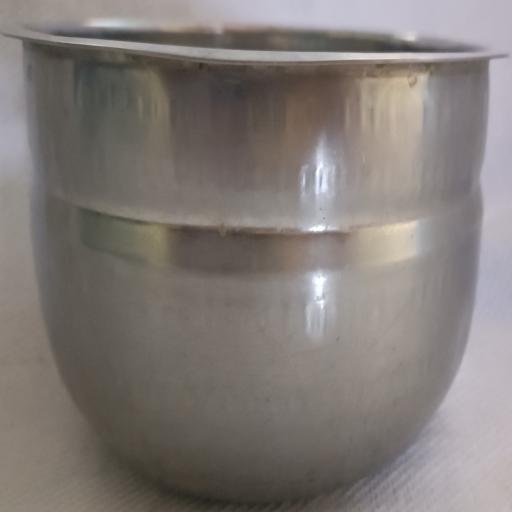vessel: (4, 20, 504, 501)
